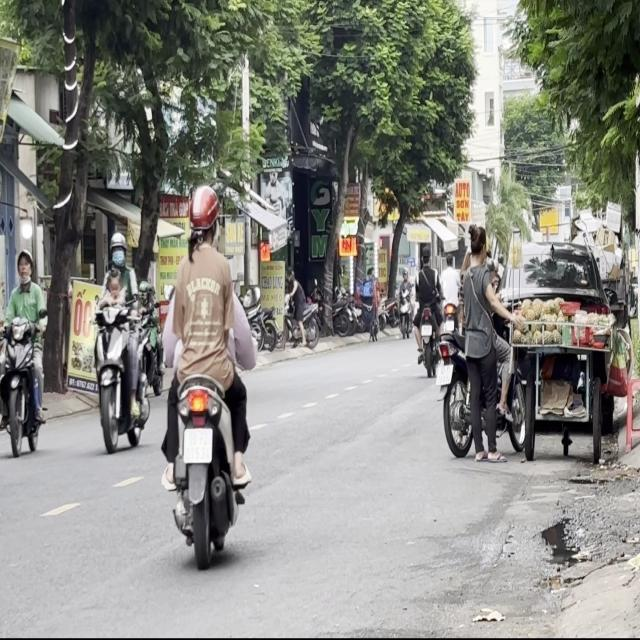helmet: (186, 184, 220, 251), (15, 248, 34, 284), (108, 231, 126, 269)
licenseplate: (158, 182, 256, 566), (90, 229, 152, 450), (0, 245, 49, 456)
motorcyclist: (106, 267, 122, 302)
nohelmet: (183, 428, 212, 463), (436, 364, 453, 384)
